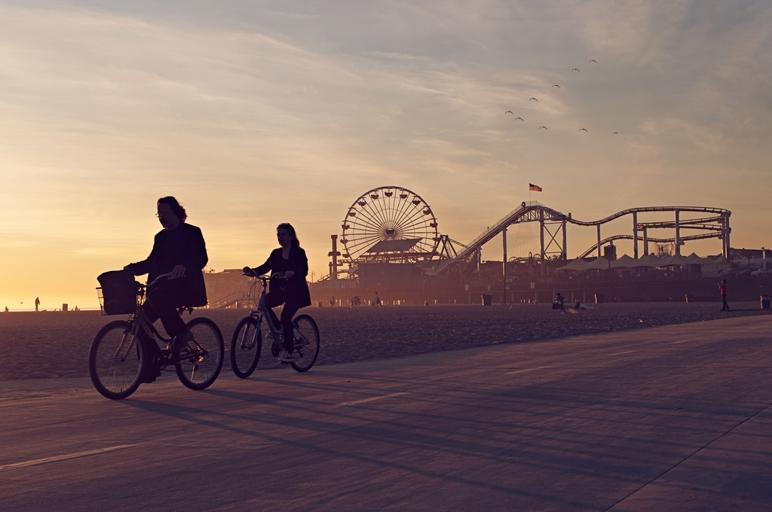non-vehicle: (89, 266, 224, 400), (230, 266, 320, 379)
